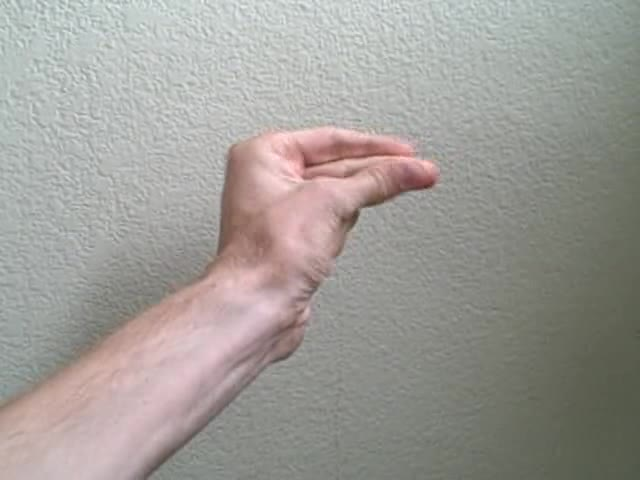finger: (250, 129, 424, 157)
